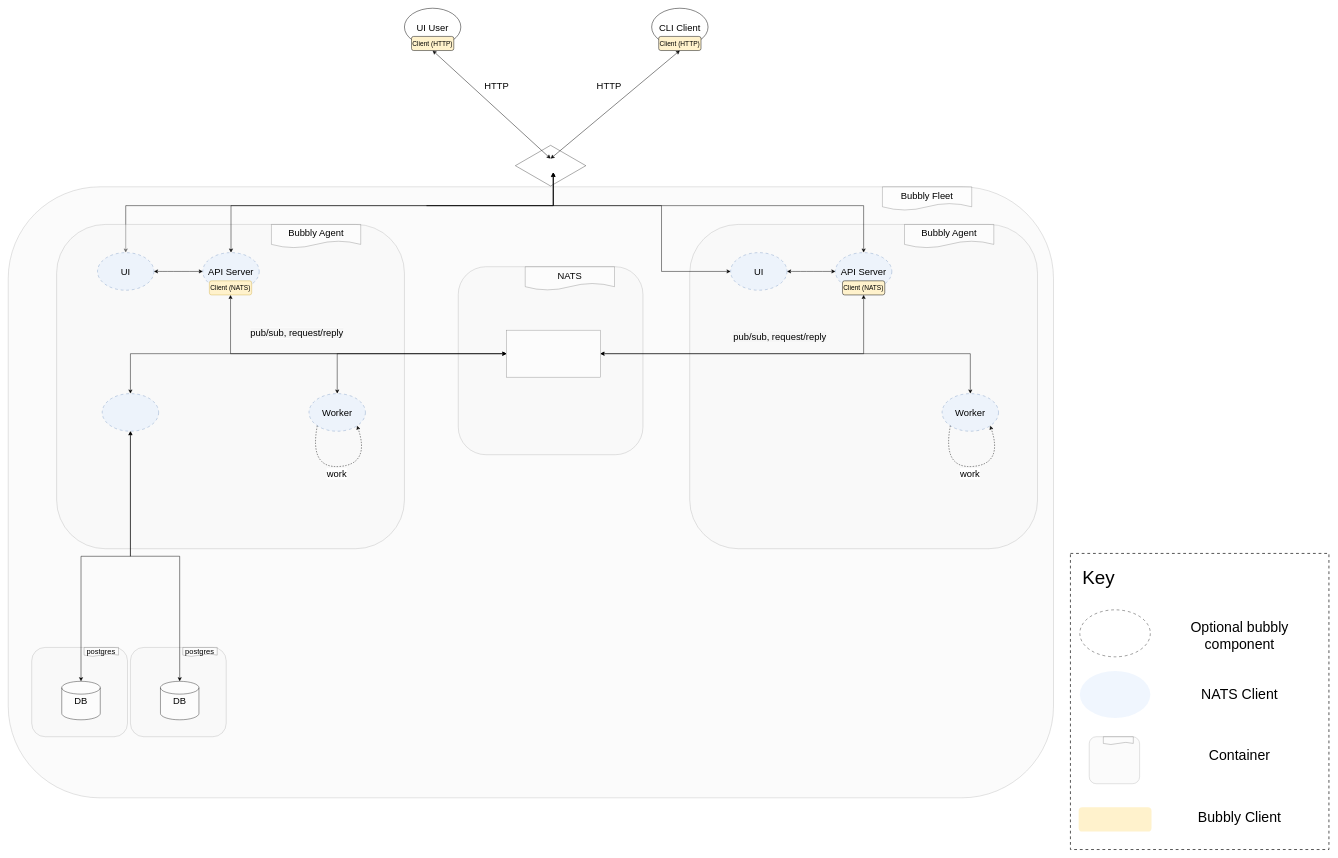
This 1338x858 diagram has some shape labels left out. The box of each missing label's shape, as (x1, y1, x2, y2) in pixels:
(type): (1078, 807, 1151, 831)
Load Balancer: (515, 144, 586, 187)
NATS Server: (506, 330, 600, 377)
Store: (102, 393, 159, 431)
